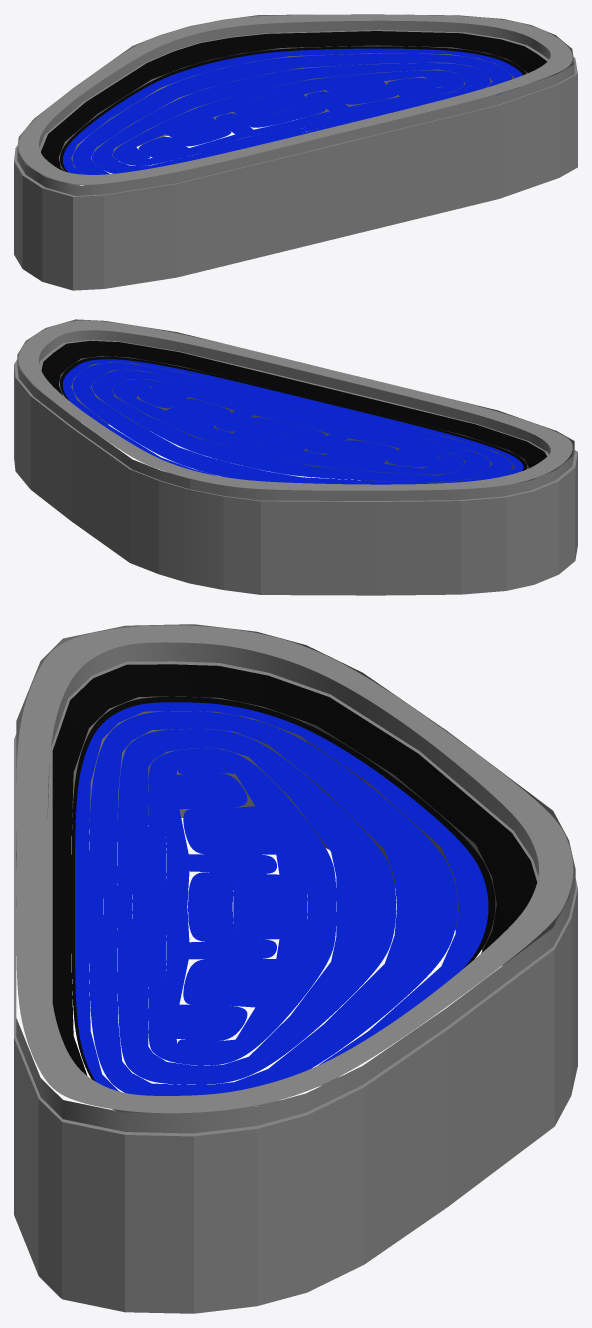
Rendered from PlataformaRebotssse (1).fbx.
The picture shows the model from 3 angles, top to bottom: view 1: azimuth 30°, elevation 25°; view 2: azimuth 150°, elevation 25°; view 3: azimuth 270°, elevation 25°; orthographic projection. The views are drawn at different scales.
Visible parts, largest first — view 1: Cube.002, Cube.003, Cube.001; view 2: Cube.002, Cube.003, Cube.001; view 3: Cube.002, Cube.001, Cube.003.
Part boxes in pixels (x1=…): Cube.002: x1=14, y1=20, x2=577, y2=278; Cube.003: x1=14, y1=14, x2=577, y2=290; Cube.001: x1=18, y1=14, x2=572, y2=184; Cube.002: x1=14, y1=330, x2=577, y2=583; Cube.003: x1=14, y1=319, x2=577, y2=595; Cube.001: x1=18, y1=320, x2=572, y2=490; Cube.002: x1=14, y1=642, x2=577, y2=1291; Cube.001: x1=16, y1=625, x2=573, y2=1113; Cube.003: x1=14, y1=624, x2=577, y2=1313.
Bounding box in the file's own units: 600 × 111 × 288.
